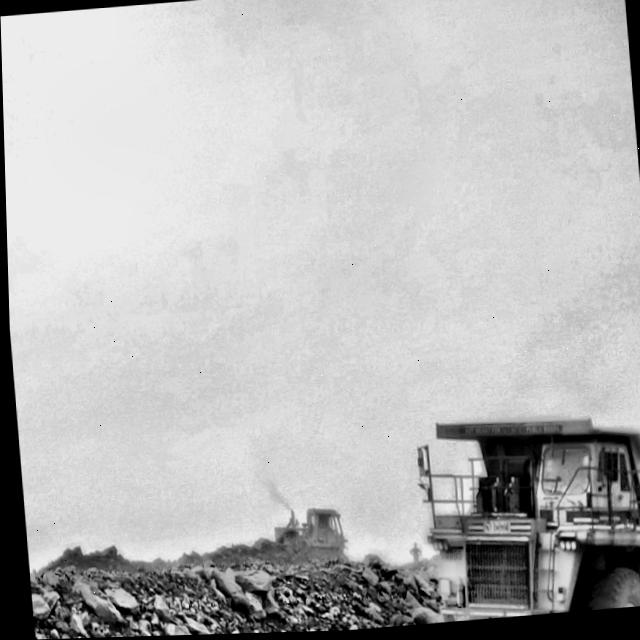dump_truck: (420, 423, 640, 625)
